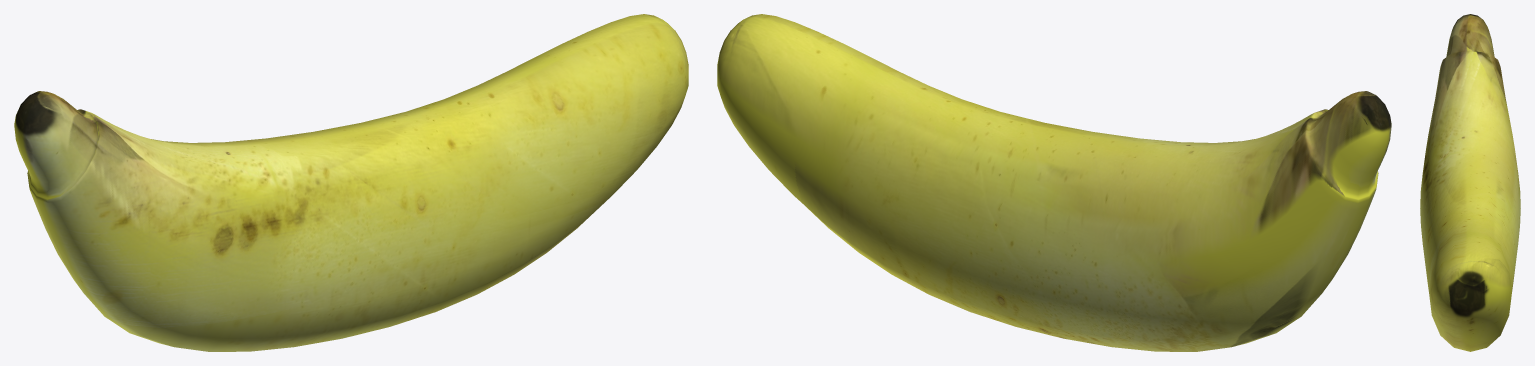
File: Banana.glb
3 renders of one model, left to right at view 1: azimuth 30°, elevation 25°; view 2: azimuth 150°, elevation 25°; view 3: azimuth 270°, elevation 25°, orthographic. The views are drawn at different scales.
Size of the model in its own units: 3.99 by 1.81 by 0.8127.
Materials: 1 (1 with a texture image).
